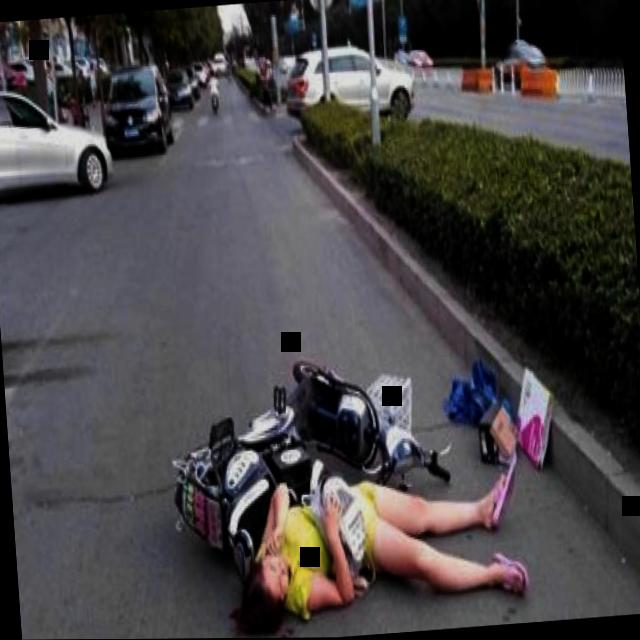Fall-Detected: (220, 418, 537, 639)
